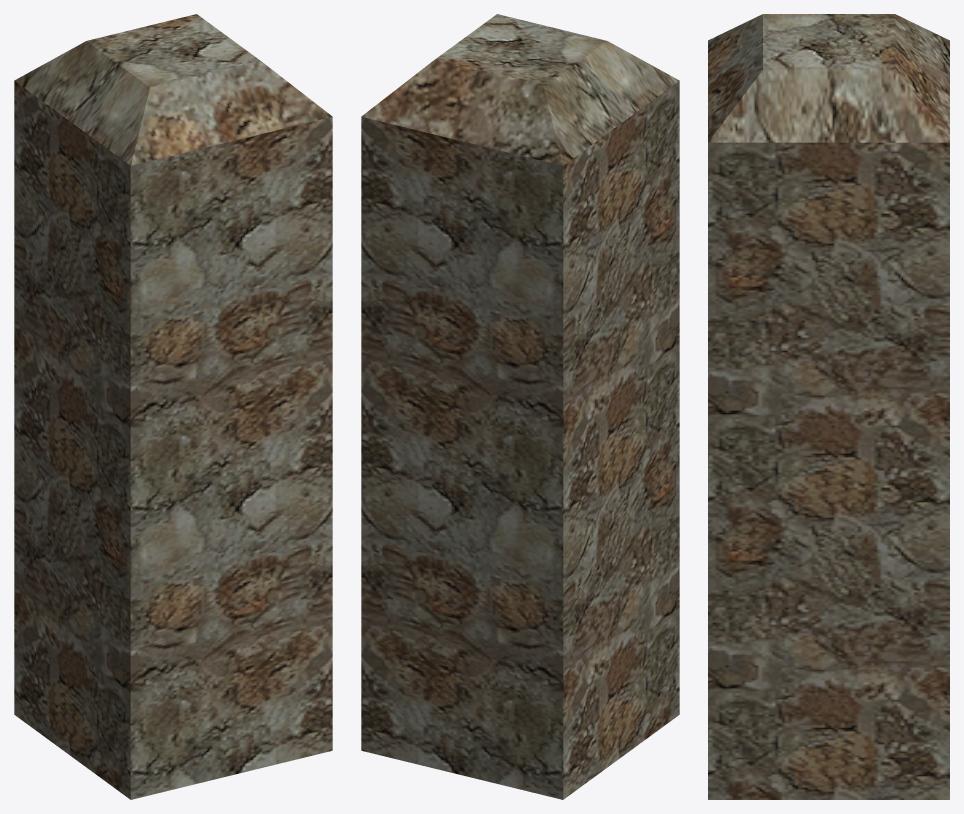
Rendered from MWalC4.glb.
The picture shows the model from 3 angles, left to right: view 1: azimuth 30°, elevation 25°; view 2: azimuth 150°, elevation 25°; view 3: azimuth 270°, elevation 25°; orthographic projection. The views are drawn at different scales.
Parts seen in each view (by area): view 1: _MWalC4; view 2: _MWalC4; view 3: _MWalC4.
Boxes of the visible parts, x1,y1,x2,y2 form: _MWalC4: [14, 14, 332, 799]; _MWalC4: [361, 14, 679, 799]; _MWalC4: [708, 14, 949, 799].
Bounding box in the file's own units: 1 × 3.23 × 1.
Materials: 1 (1 with a texture image).
